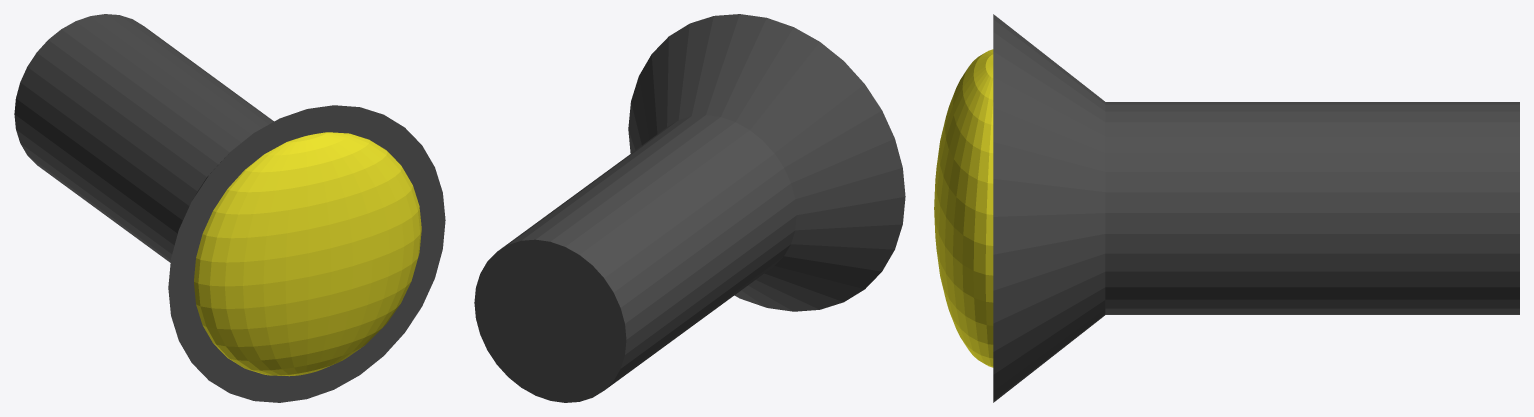
The model's file is lampe.glb.
The picture shows the model from 3 angles, left to right: view 1: azimuth 30°, elevation 25°; view 2: azimuth 150°, elevation 25°; view 3: azimuth 270°, elevation 25°; orthographic projection. The views are drawn at different scales.
Parts seen in each view (by area): view 1: Cylinder, Sphere; view 2: Cylinder; view 3: Cylinder, Sphere.
Part boxes in pixels (box(x1,y1,x2,y2)): Cylinder: box(14, 14, 445, 402); Sphere: box(194, 132, 421, 376); Cylinder: box(474, 14, 905, 402); Cylinder: box(993, 14, 1519, 402); Sphere: box(934, 49, 993, 367).
Size of the model in its own units: 0.9118 by 0.9118 by 1.37.
